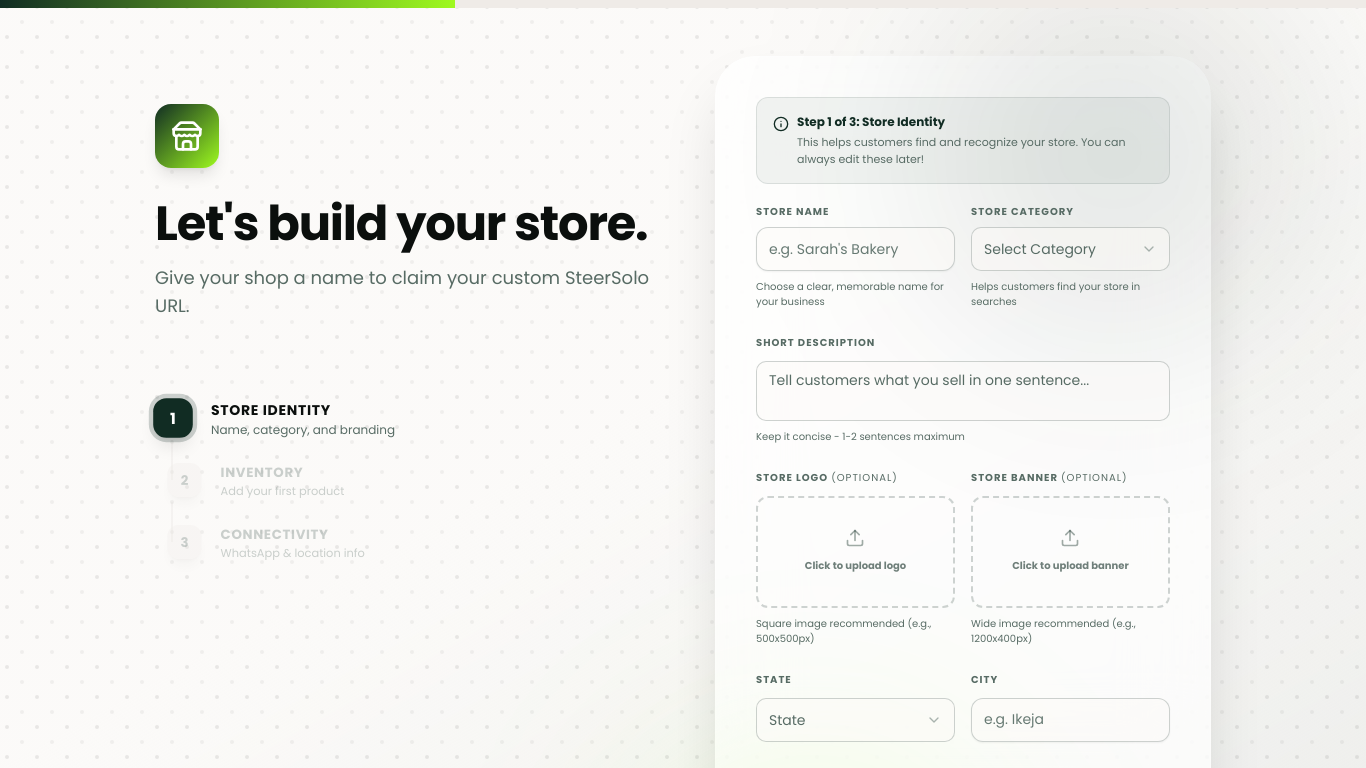
Test case: VendorSetupWizard › advances to Step 2 after creating a shop with required details
Step 1. Type "My Test Shop" into the field with placeholder "e.g. Sarah's Bakery" → (856, 249), box [756,227,955,271]
Step 2. Click the dropdown labelled "Select Category" → (1070, 249), box [971,227,1170,271]
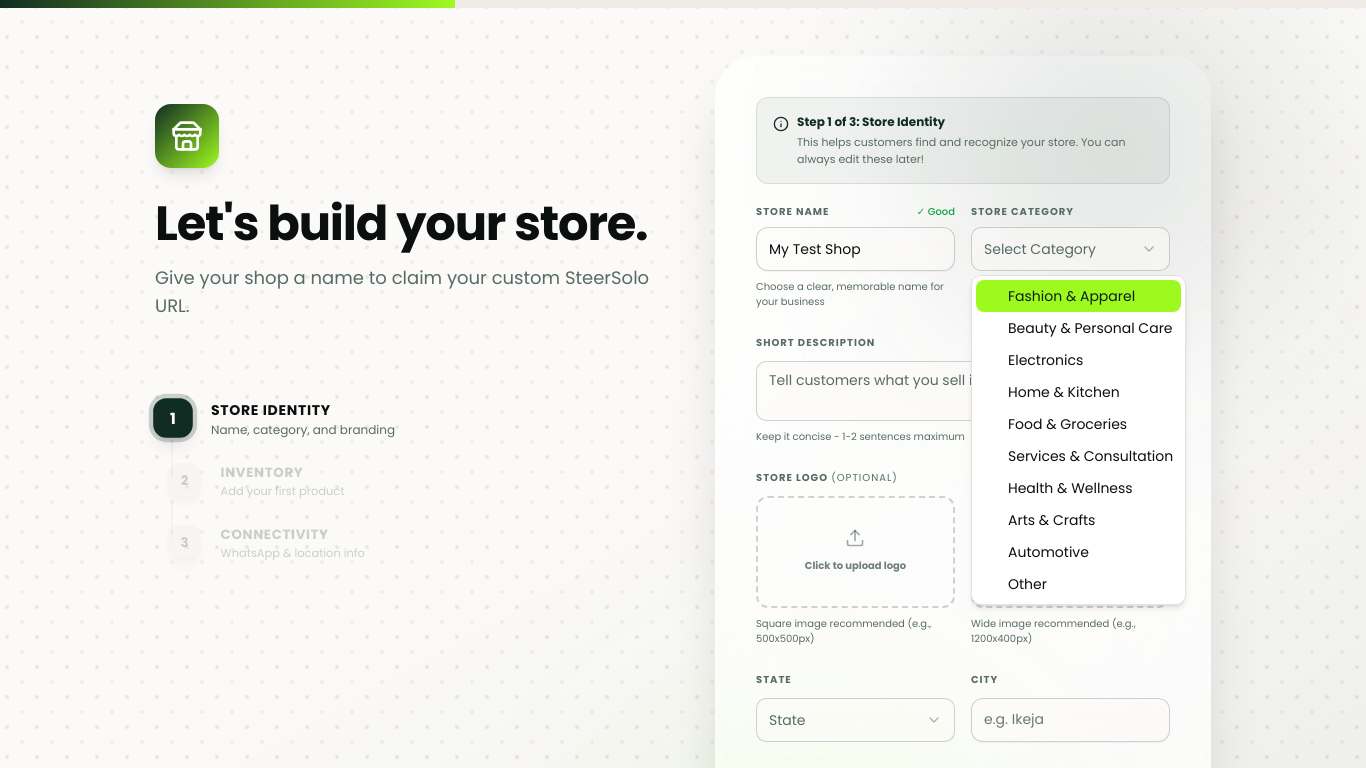
Step 3. Click the option "Fashion & Apparel" → (1079, 296), box [976,280,1181,312]
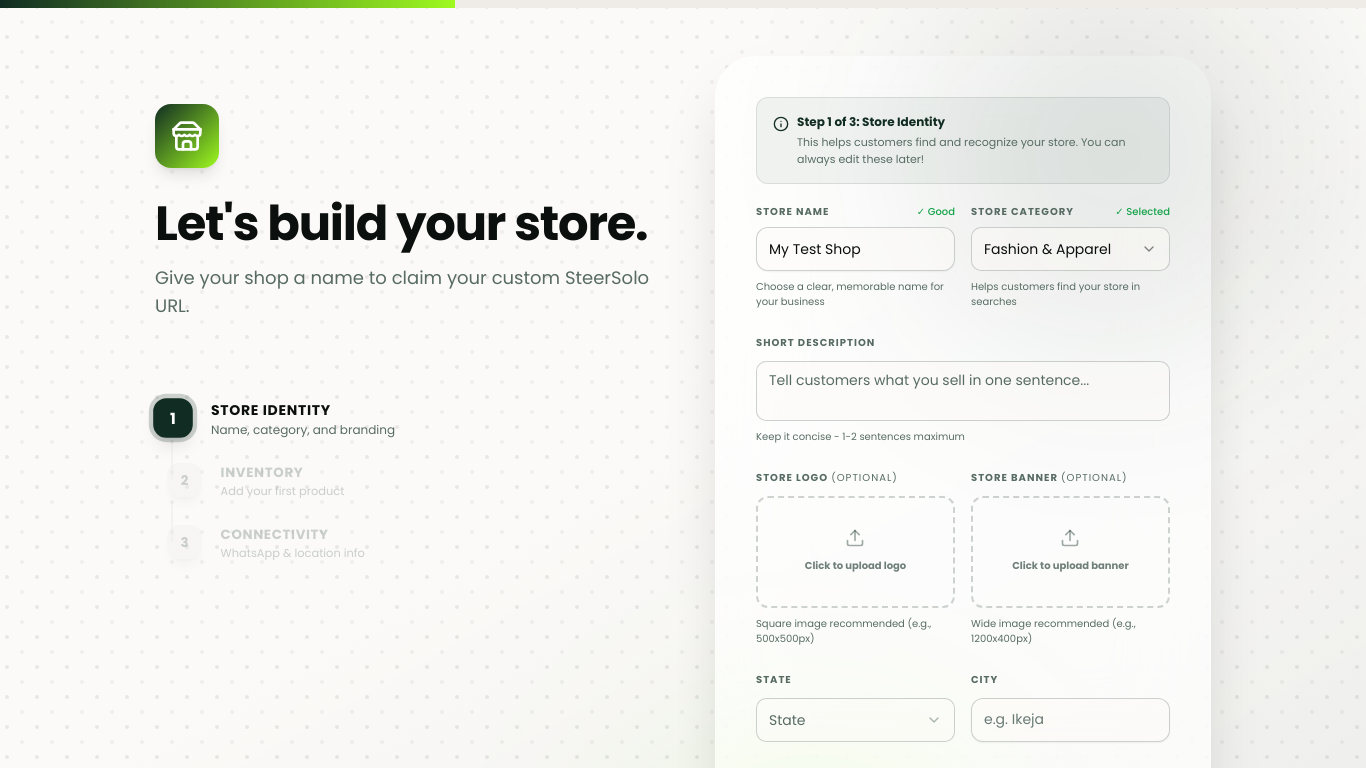
Step 4. Click the dropdown labelled "State" → (856, 720), box [756,698,955,742]
(page scrolled)
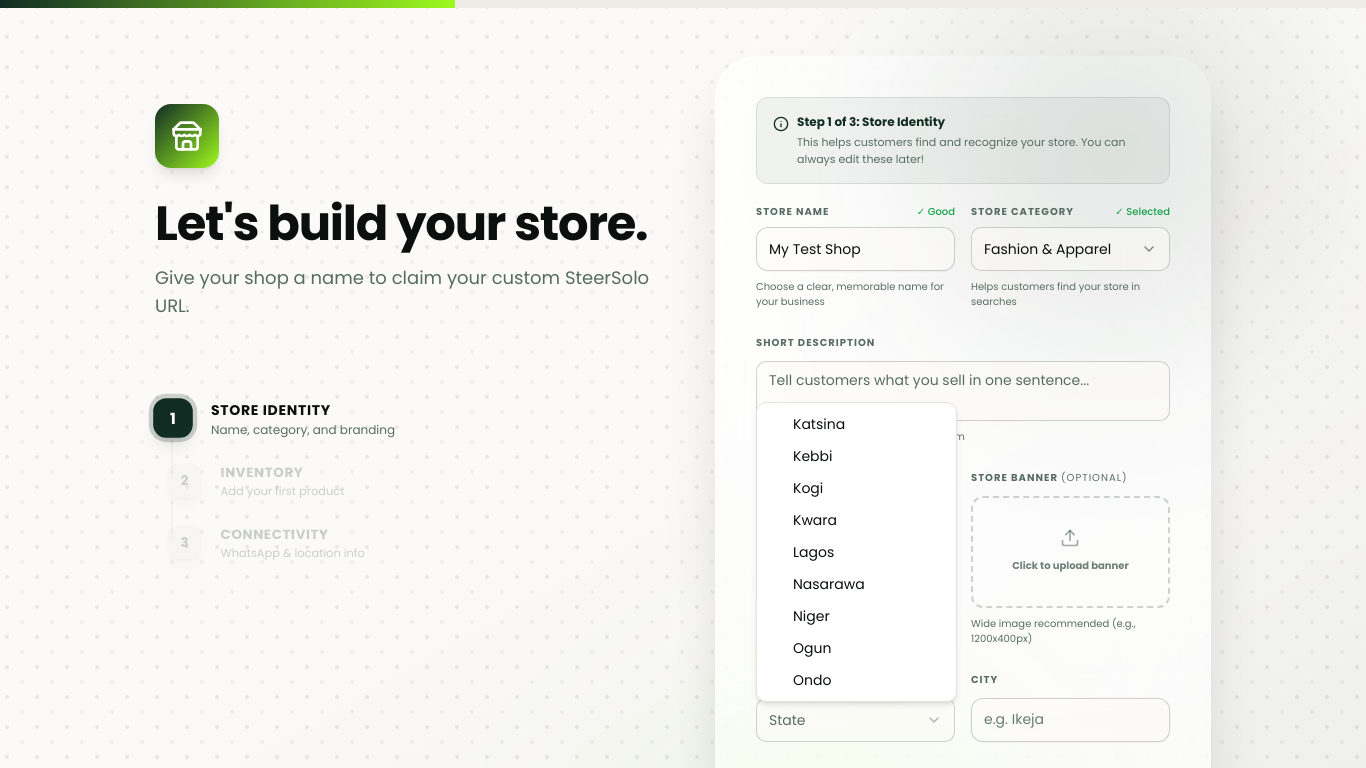
Step 5. Click the option "Lagos" → (814, 552), box [793,542,834,562]
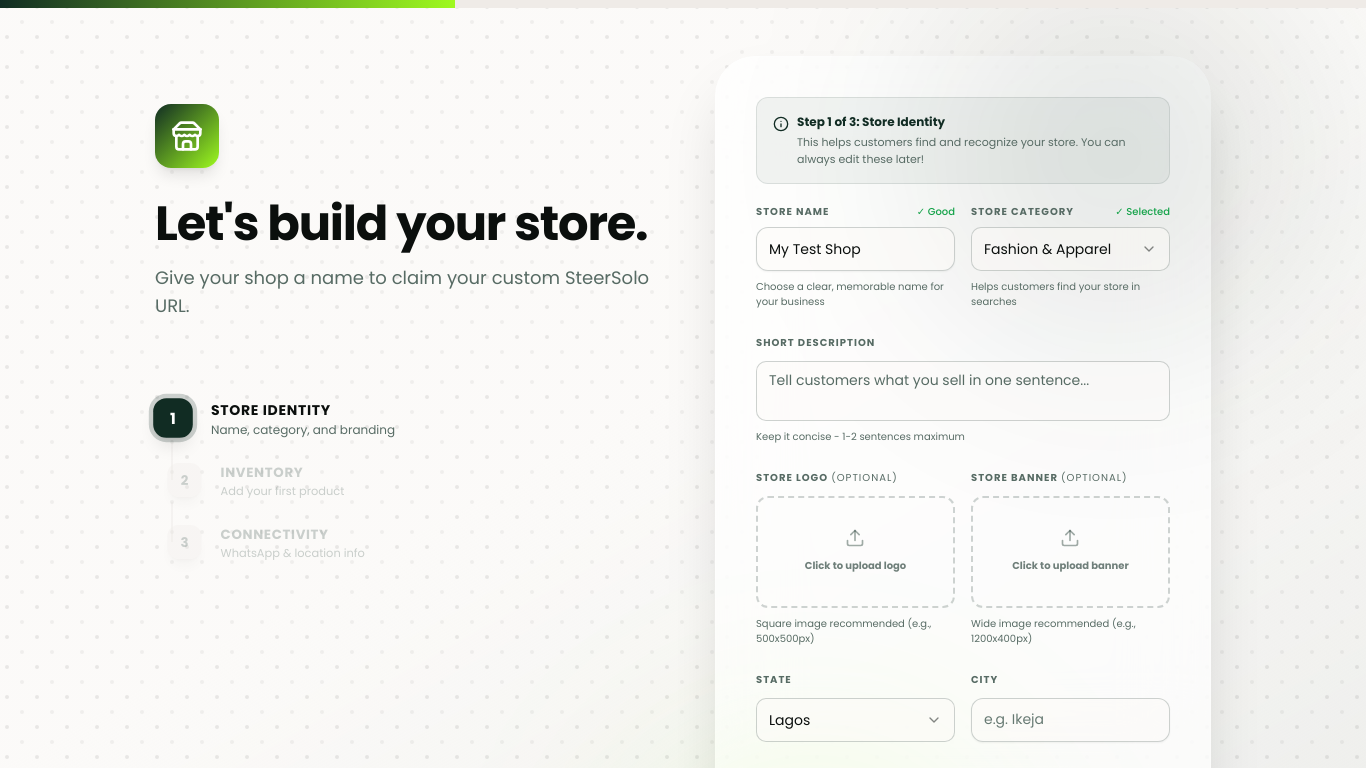
Step 6. Type "Ikeja" into the field with placeholder "e.g. Ikeja" → (1070, 720), box [971,698,1170,742]
(page scrolled)
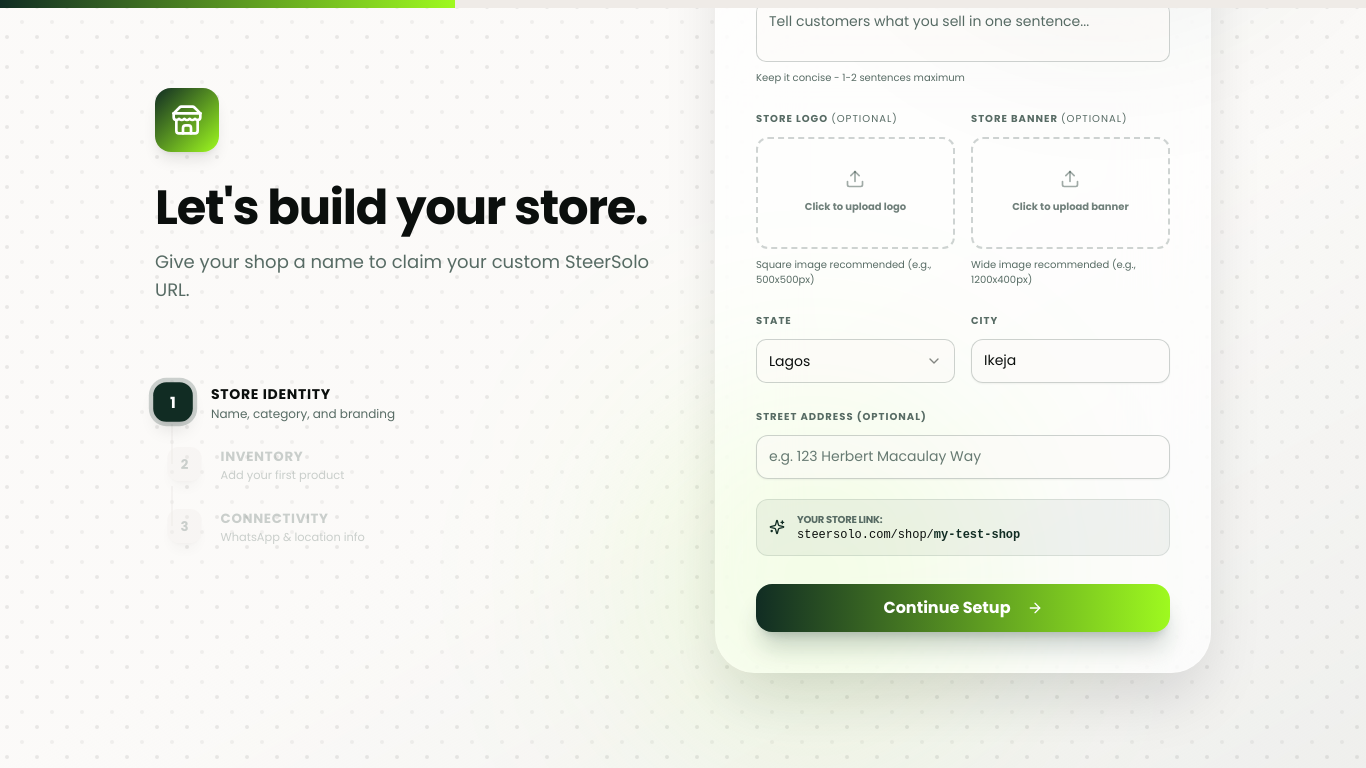
Step 7. Click the button "Continue Setup" → (963, 608), box [756,584,1170,632]
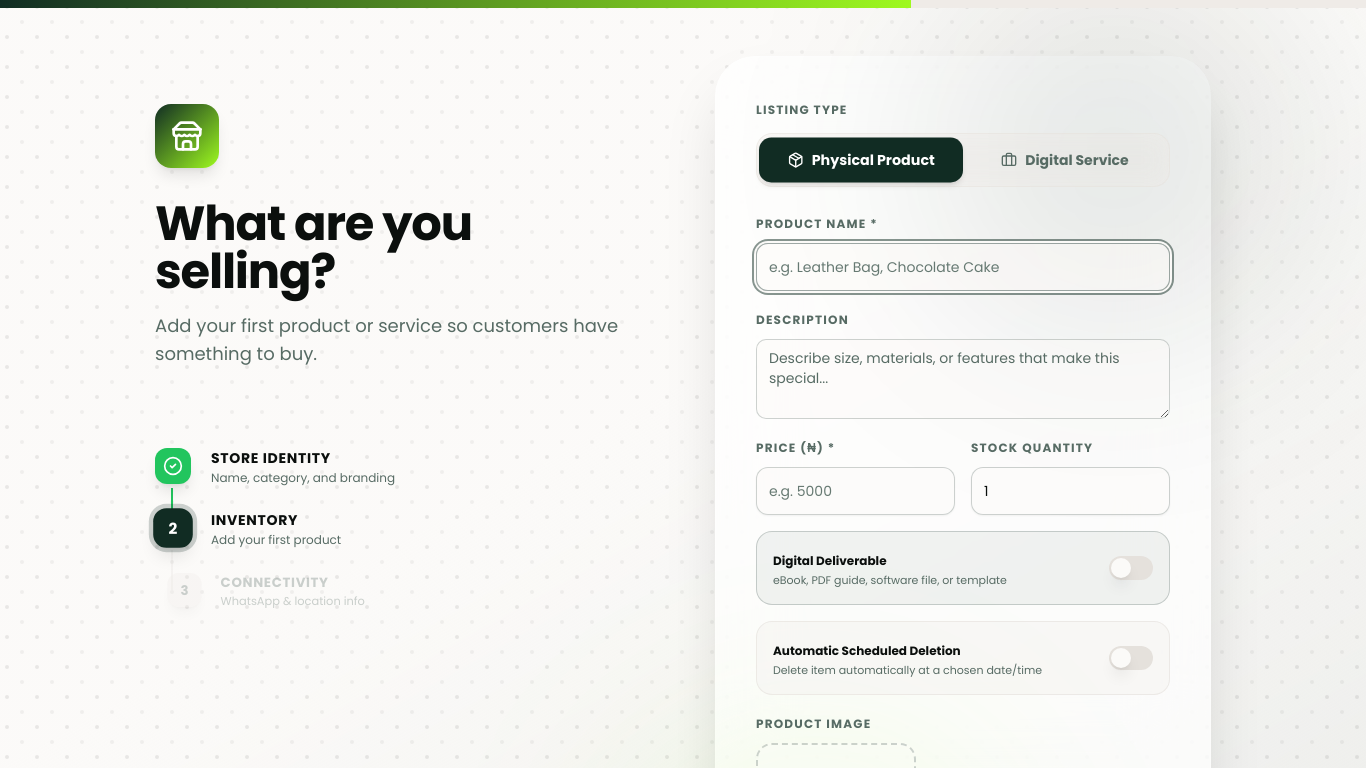
Expected: the heading "What are you selling?" is shown, [155,190,472,305]
